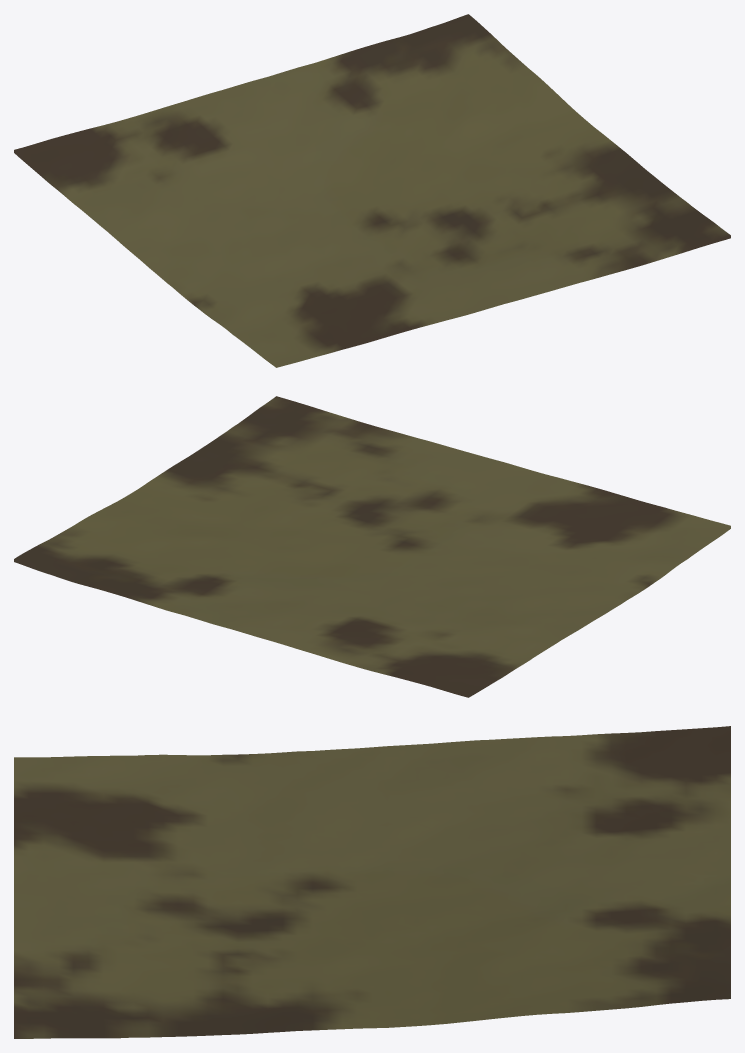
Rendered from land_m_14_02.glb.
3 views of the same model, one above another, from view 1: azimuth 30°, elevation 25°; view 2: azimuth 150°, elevation 25°; view 3: azimuth 270°, elevation 25° (orthographic). The views are drawn at different scales.
Parts seen in each view (by area): view 1: land_m_14_02; view 2: land_m_14_02; view 3: land_m_14_02.
Boxes of the visible parts, x1,y1,x2,y2 form: land_m_14_02: (14,14,730,367); land_m_14_02: (14,396,730,697); land_m_14_02: (14,726,730,1038).
Bounding box in the file's own units: 960 × 103 × 960.
